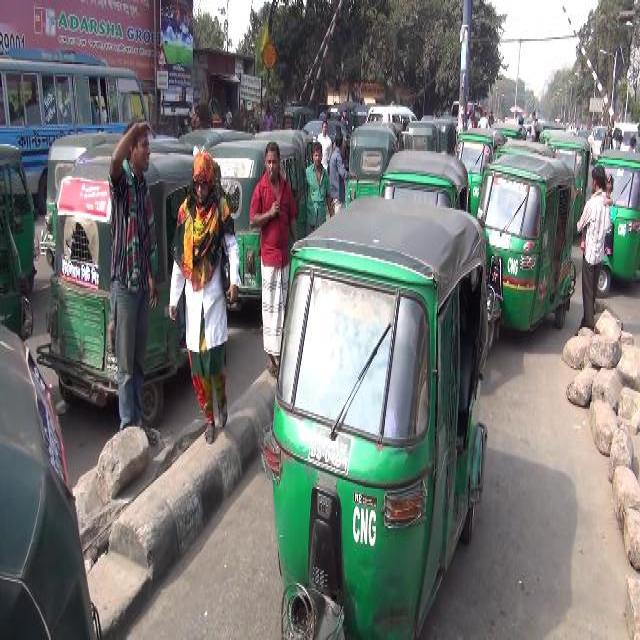bus: (0, 41, 150, 210)
car: (299, 114, 350, 165), (610, 112, 639, 153), (589, 118, 610, 158)
motorcycle: (261, 190, 486, 636), (45, 144, 222, 414), (0, 314, 106, 636), (475, 149, 572, 343), (202, 137, 303, 322), (40, 126, 130, 278), (378, 139, 467, 215), (595, 146, 637, 306), (0, 137, 41, 284), (540, 123, 588, 238), (256, 126, 309, 230), (0, 201, 37, 345), (453, 122, 503, 218), (344, 119, 399, 199), (177, 126, 256, 151), (421, 112, 454, 153), (403, 118, 440, 148), (277, 102, 311, 134), (324, 92, 360, 116), (491, 116, 523, 142), (203, 91, 224, 128)
truck: (366, 94, 421, 128)
